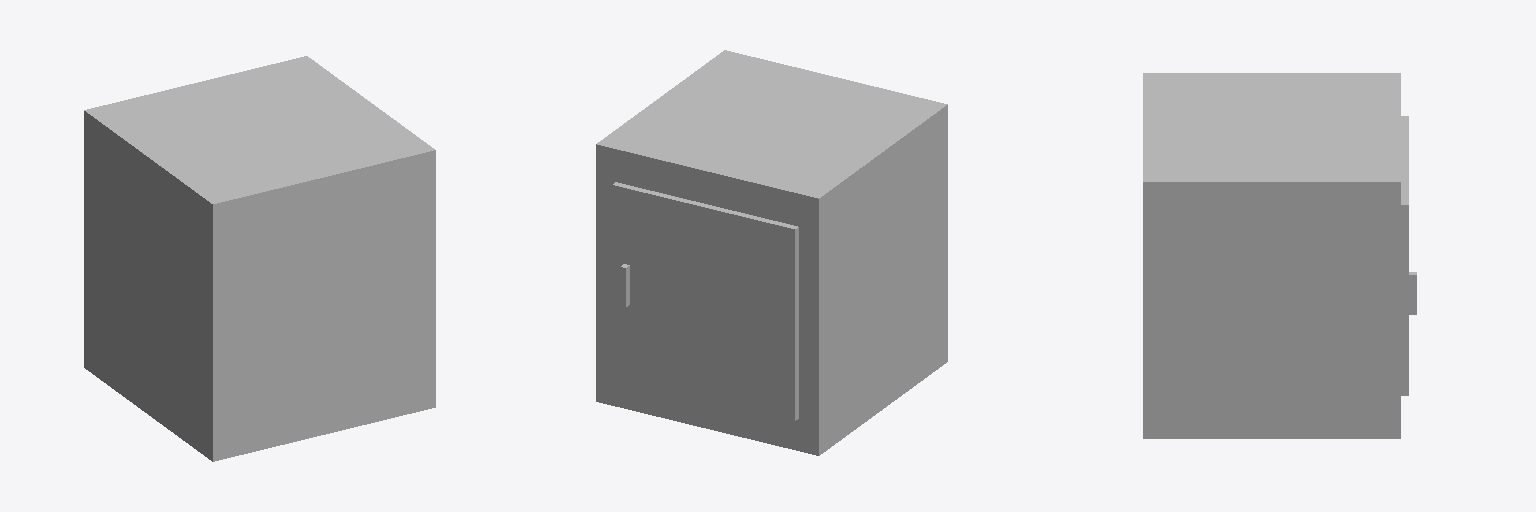
File: Counter Base.obj
3 views of the same model, side by side, from view 1: azimuth 30°, elevation 25°; view 2: azimuth 150°, elevation 25°; view 3: azimuth 270°, elevation 25° (orthographic).
Parts seen in each view (by area): view 1: Counter_Base; view 2: Counter_Base; view 3: Counter_Base.
Boxes of the visible parts, x1,y1,x2,y2 form: Counter_Base: [84, 56, 435, 461]; Counter_Base: [596, 50, 947, 455]; Counter_Base: [1143, 73, 1416, 438].
Bounding box in the file's own units: 1 × 1.1 × 1.06.